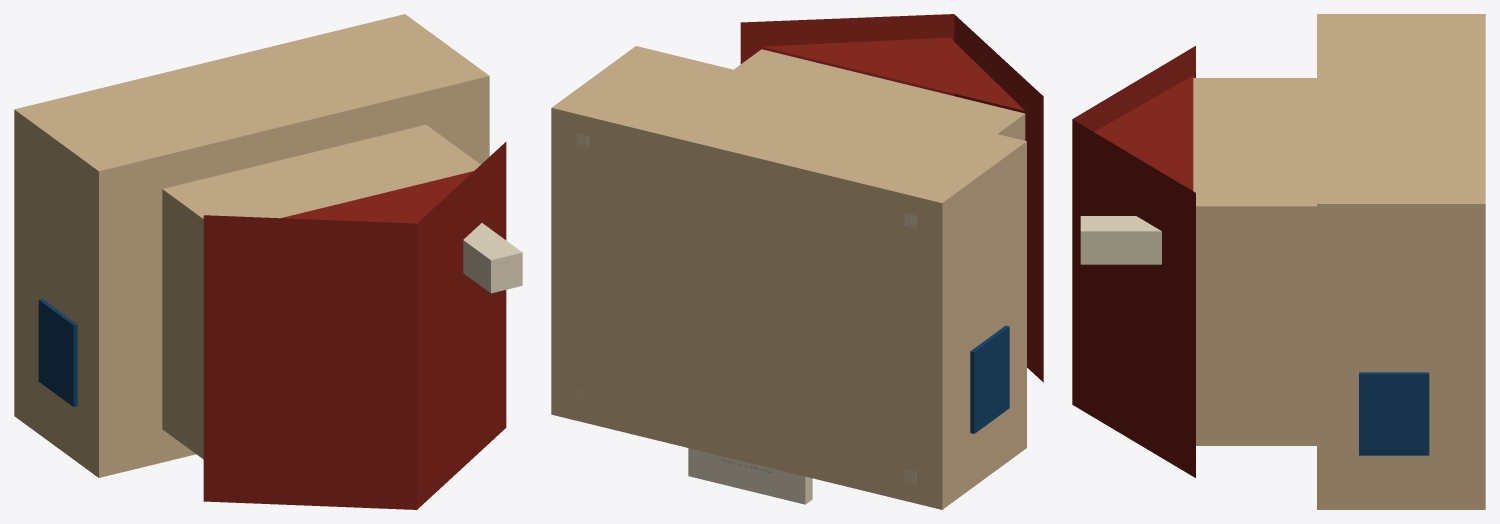
Rendered from villa.obj.
3 renders of one model, left to right at view 1: azimuth 30°, elevation 25°; view 2: azimuth 150°, elevation 25°; view 3: azimuth 270°, elevation 25°, orthographic.
Visible parts, largest first — view 1: walls, roof, windows, trim; view 2: walls, roof, trim, windows; view 3: walls, roof, windows, trim.
Part boxes in pixels (x1=…): walls: x1=14, y1=14, x2=489, y2=477; roof: x1=203, y1=142, x2=506, y2=509; windows: x1=38, y1=298, x2=77, y2=406; trim: x1=463, y1=223, x2=522, y2=293; walls: x1=551, y1=46, x2=1026, y2=509; roof: x1=740, y1=14, x2=1043, y2=382; trim: x1=576, y1=133, x2=916, y2=504; windows: x1=970, y1=325, x2=1009, y2=433; walls: x1=1193, y1=14, x2=1485, y2=509; roof: x1=1072, y1=46, x2=1195, y2=477; windows: x1=1359, y1=372, x2=1429, y2=455; trim: x1=1080, y1=216, x2=1161, y2=264.
Bounding box in the file's own units: 8.16 × 6.55 × 7.35.
